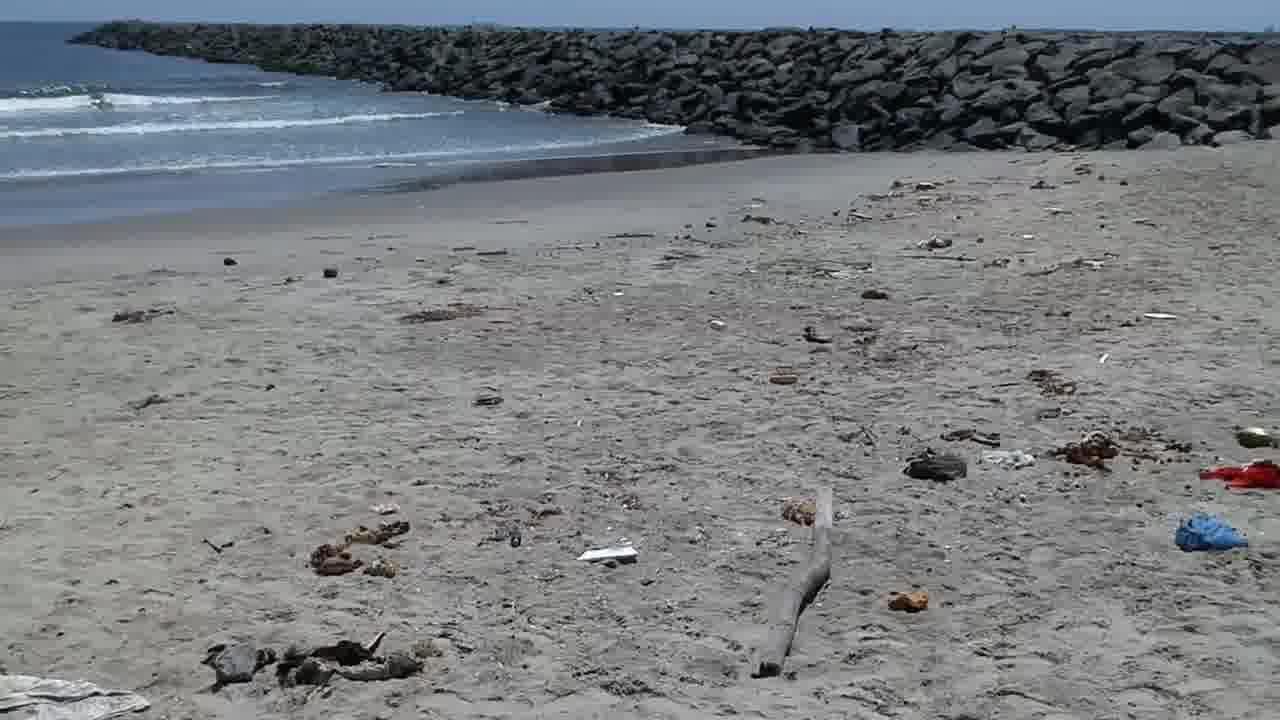obj: (756, 469, 836, 674), (272, 629, 423, 694), (1040, 422, 1192, 472), (0, 674, 151, 719), (311, 520, 414, 576), (1174, 511, 1250, 555), (1198, 458, 1278, 488), (216, 640, 277, 679), (1026, 364, 1076, 402), (904, 454, 968, 480), (402, 304, 484, 324), (1230, 425, 1279, 455), (940, 426, 1001, 447), (112, 304, 176, 324), (982, 446, 1033, 468), (574, 545, 640, 562), (888, 588, 928, 610), (915, 236, 951, 251), (1145, 307, 1176, 324), (1077, 258, 1105, 271), (469, 396, 503, 406), (220, 255, 239, 268), (319, 265, 336, 279), (738, 200, 763, 208), (710, 318, 726, 330), (611, 290, 625, 296), (1024, 234, 1035, 240)
sand/background: (0, 0, 1279, 235)
